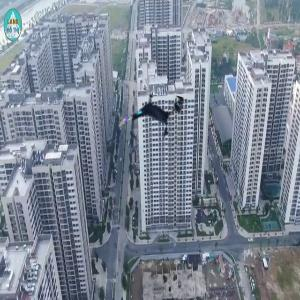drone: (121, 90, 180, 149)
